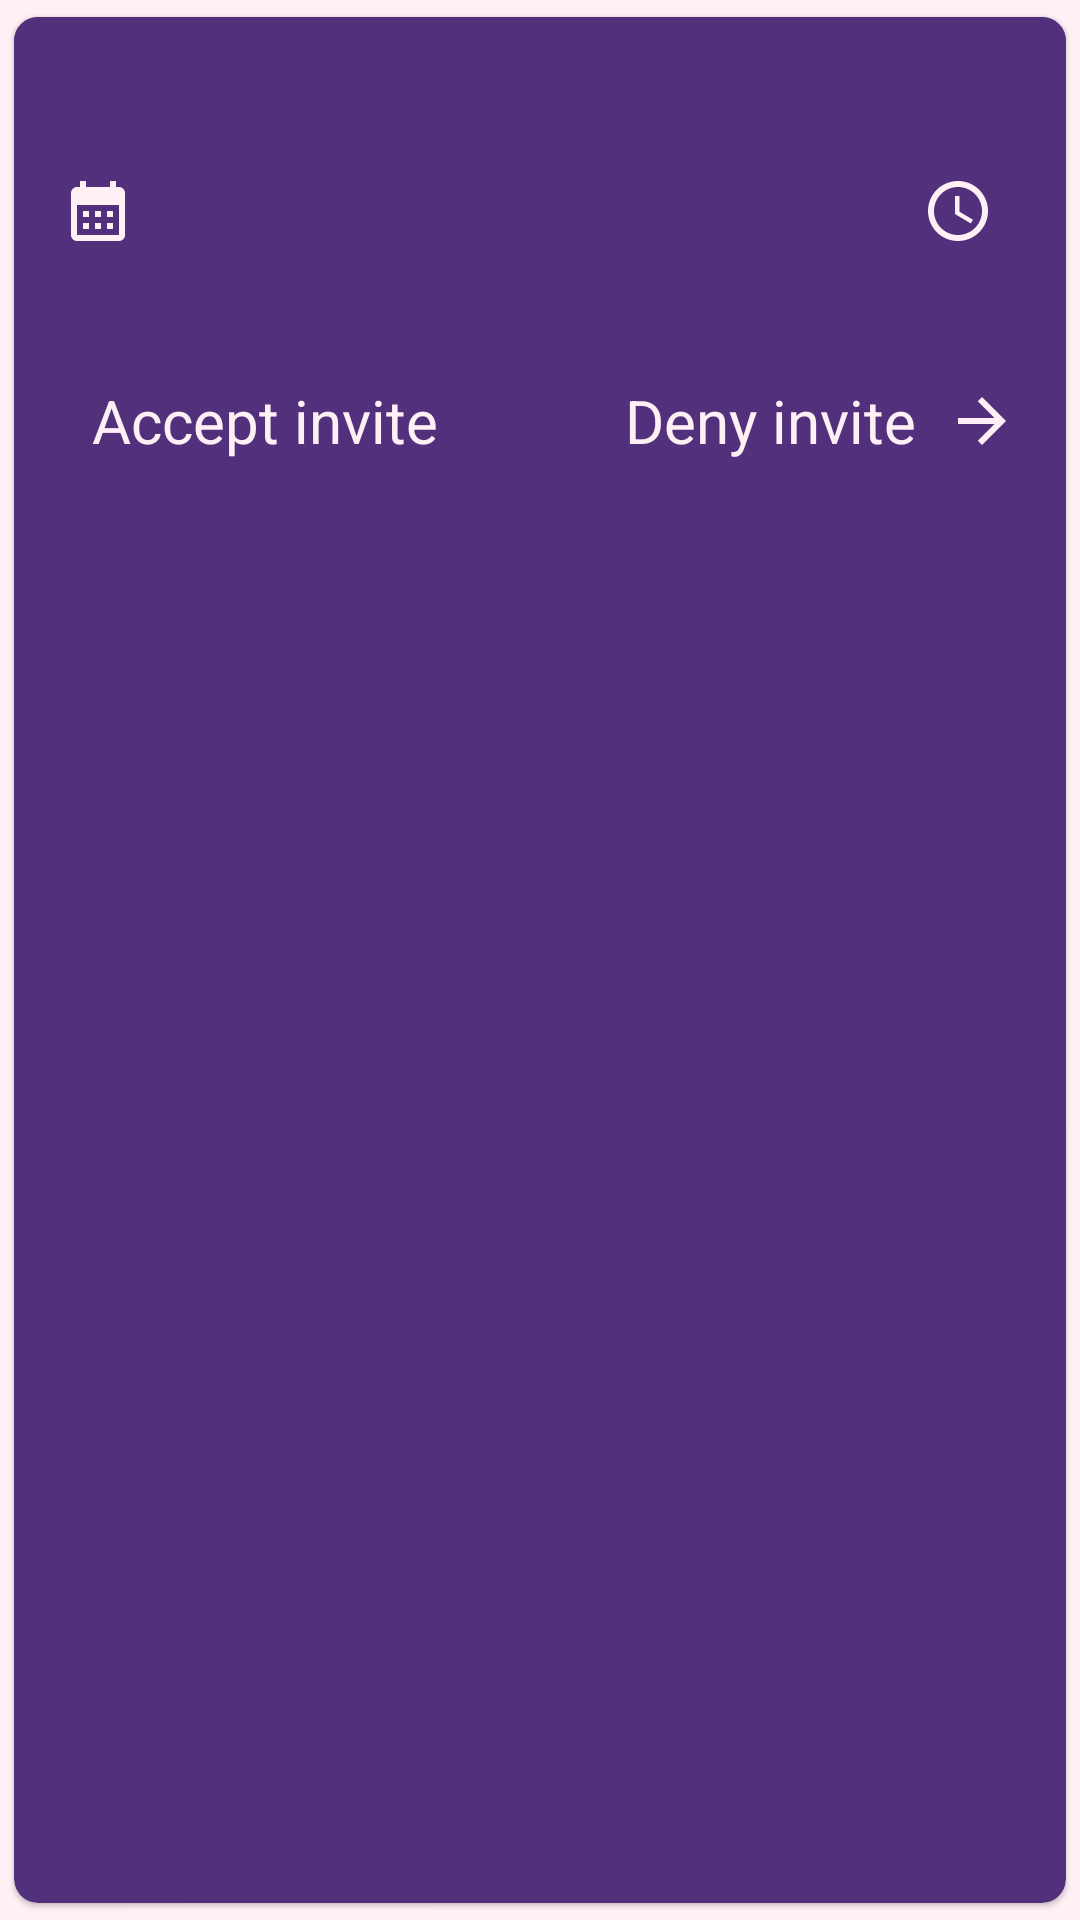

Where to tap for icons on this 1080×1920 app screen, as [x,y]:
access time: [958,211]
arrow forward: [982,421]
calendar month: [98,211]
